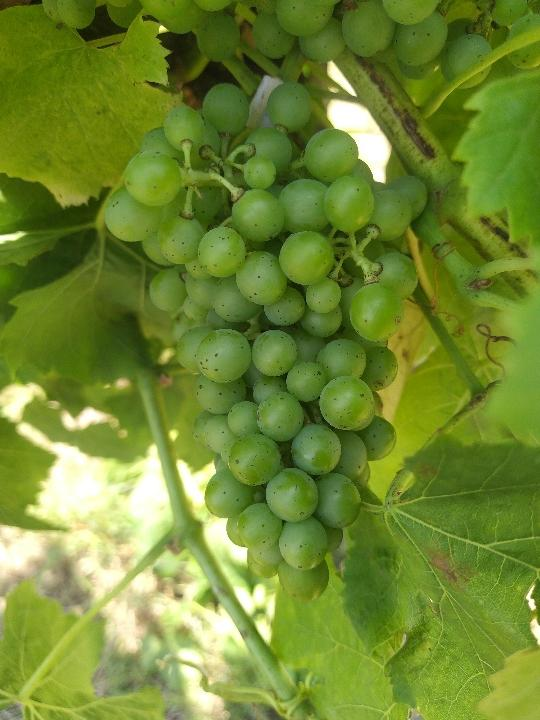grape: (99, 77, 429, 601)
